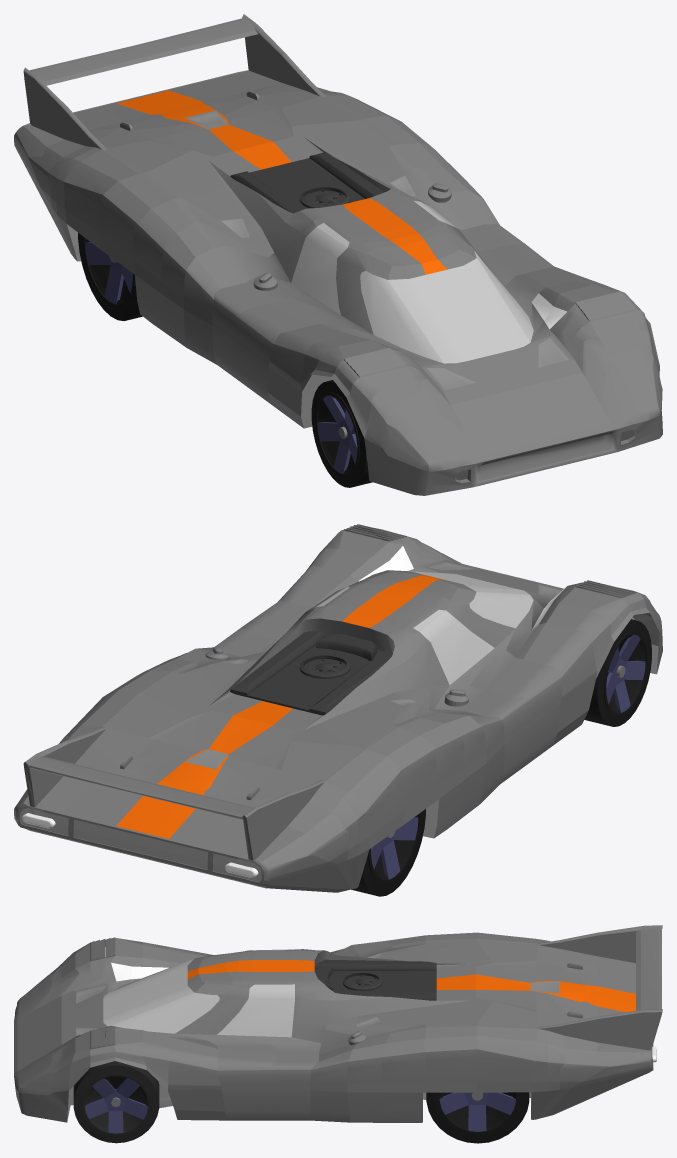
File: carrito2.obj
The picture shows the model from 3 angles, top to bottom: view 1: azimuth 30°, elevation 25°; view 2: azimuth 150°, elevation 25°; view 3: azimuth 270°, elevation 25°; orthographic projection. The views are drawn at different scales.
Parts seen in each view (by area): view 1: pCube1, pCube2, group9 pTorus10, group9 pTorus12, pCylinder17, pCylinder20; view 2: pCube1, pCube2, group9 pTorus10, group9 pTorus12, pCylinder17, pCylinder20; view 3: pCube1, group9 pTorus9, pCube2, group9 pTorus13, pCylinder16, pCylinder21, pTorus14.
Boxes of the visible parts, left/top/right/bottom form: pCube1: left=14, top=14, right=662, bottom=495; pCube2: left=230, top=152, right=384, bottom=213; group9 pTorus10: left=311, top=380, right=372, bottom=487; group9 pTorus12: left=78, top=233, right=142, bottom=320; pCylinder17: left=317, top=395, right=357, bottom=473; pCylinder20: left=85, top=242, right=132, bottom=303; pCube1: left=14, top=524, right=662, bottom=892; pCube2: left=230, top=631, right=392, bottom=715; group9 pTorus10: left=584, top=619, right=651, bottom=726; group9 pTorus12: left=351, top=809, right=425, bottom=896; pCylinder17: left=606, top=634, right=645, bottom=712; pCylinder20: left=371, top=817, right=418, bottom=879; pCube1: left=14, top=925, right=662, bottom=1122; group9 pTorus9: left=73, top=1061, right=159, bottom=1143; pCube2: left=314, top=959, right=436, bottom=1000; group9 pTorus13: left=426, top=1092, right=529, bottom=1143; pCylinder16: left=85, top=1078, right=147, bottom=1133; pCylinder21: left=439, top=1092, right=515, bottom=1131; pTorus14: left=342, top=972, right=382, bottom=990.
Bounding box in the file's own units: 5.01 × 2.47 × 11.76.
